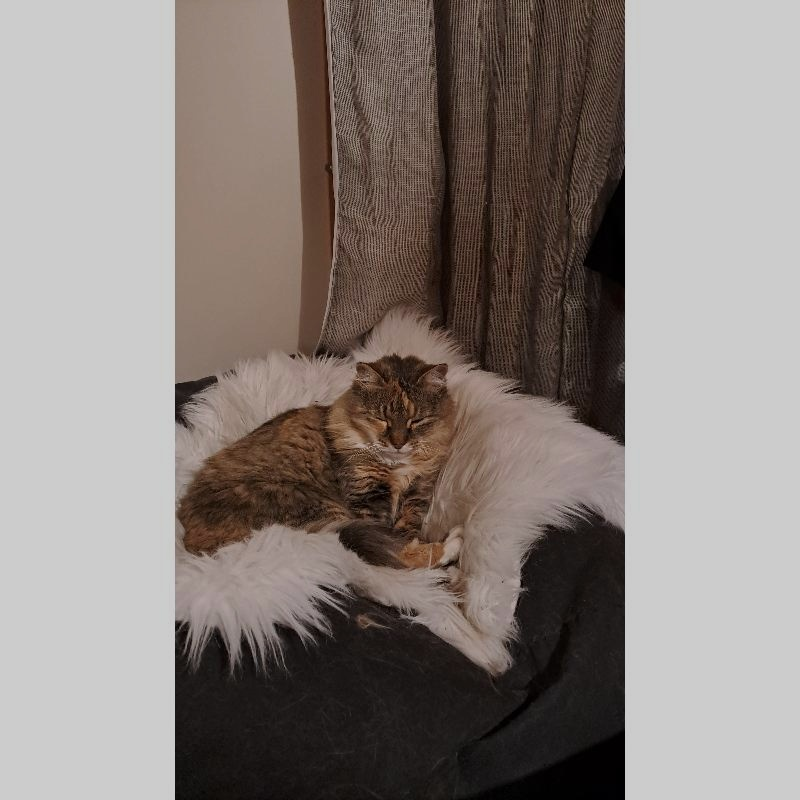yellow: (178, 354, 466, 564)
